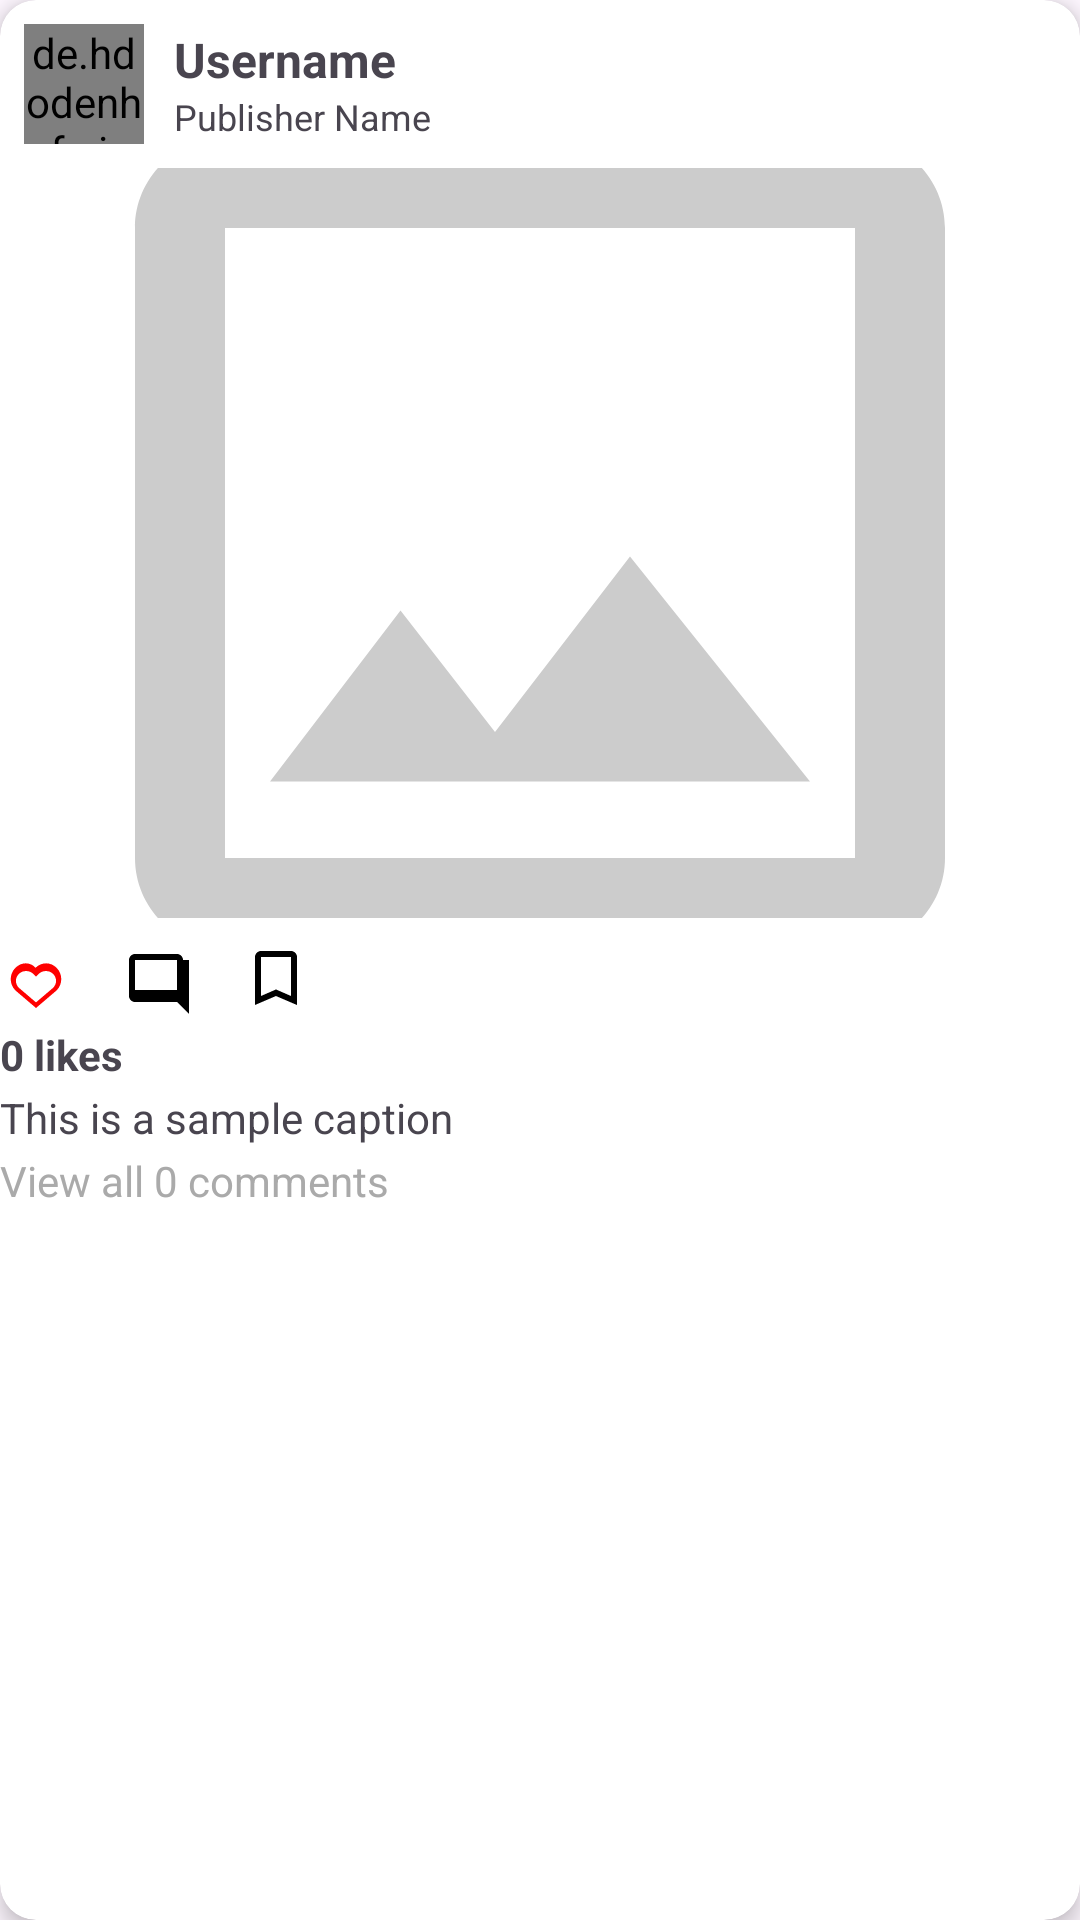

Named icons in this screenshot (1080px×1920px) and their centers, (x=x, y=y):
Comment Button: (x=159, y=984)
Like Button: (x=36, y=985)
Save Button: (x=276, y=978)
